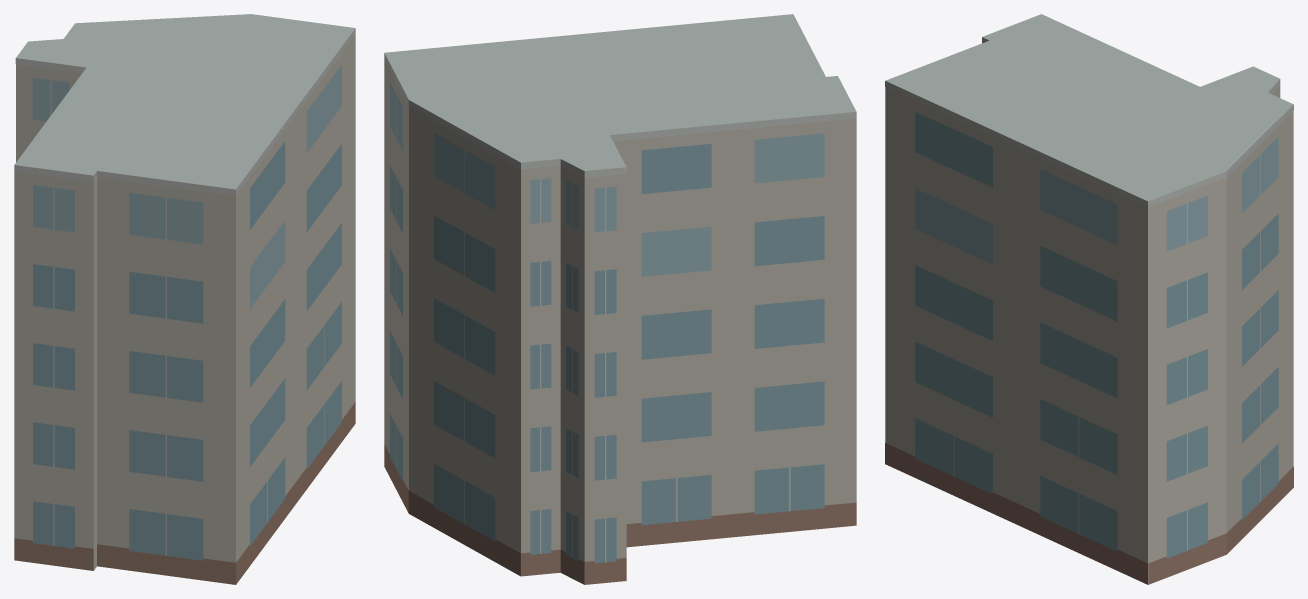
The model's file is survey-upis-33047387.glb.
3 views of the same model, side by side, from view 1: azimuth 30°, elevation 25°; view 2: azimuth 150°, elevation 25°; view 3: azimuth 270°, elevation 25° (orthographic). The views are drawn at different scales.
Parts seen in each view (by area): view 1: survey-upis-33047387.tmp; view 2: survey-upis-33047387.tmp; view 3: survey-upis-33047387.tmp.
Boxes of the visible parts, x1,y1,x2,y2 form: survey-upis-33047387.tmp: (14, 14, 355, 584); survey-upis-33047387.tmp: (384, 14, 856, 584); survey-upis-33047387.tmp: (885, 14, 1293, 584).
Bounding box in the file's own units: 15.74 × 15 × 14.49.
